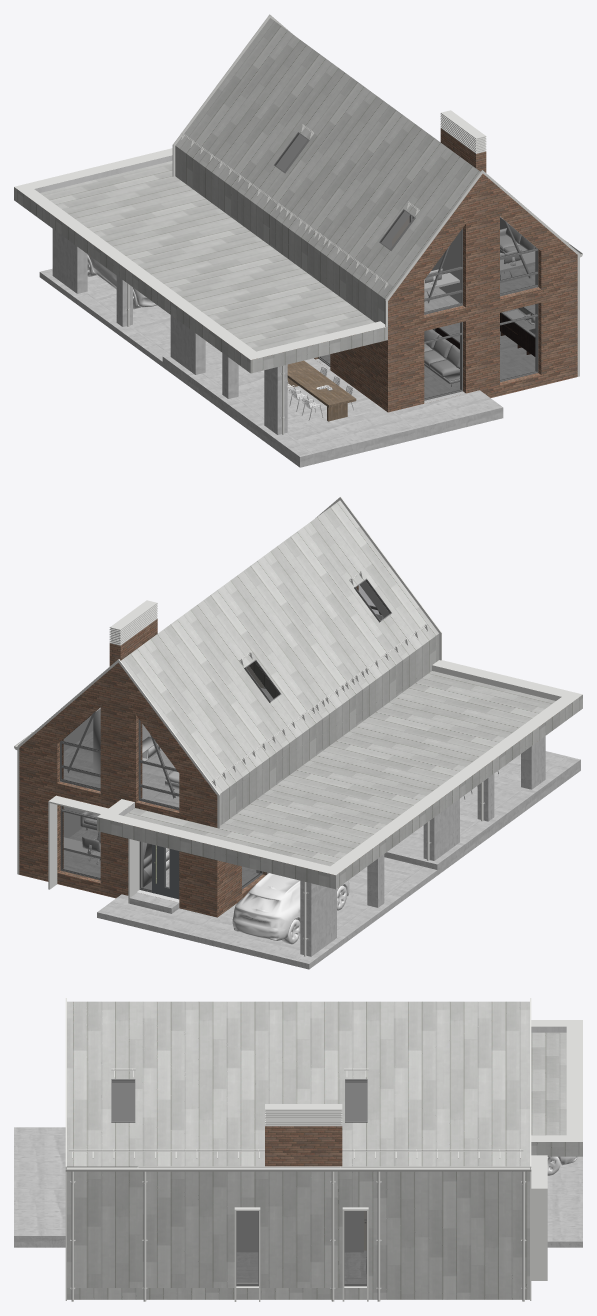
Rendered from BrickHouse к видео-compressed.glb.
3 views of the same model, one above another, from view 1: azimuth 30°, elevation 25°; view 2: azimuth 150°, elevation 25°; view 3: azimuth 270°, elevation 25° (orthographic). The views are drawn at different scales.
Visible parts, largest first — view 1: _3DGeom489, _3DGeom190154155, _3DGeom245, _3DGeom173111112, _3DGeom189152153, _3DGeom172108109, _3DGeom367, _3DGeom11953954021, _3DGeom11953954014, _3DGeom11953954006, _3DGeom11953954, _3DGeom24984985002 (+16 smaller); view 2: _3DGeom489, _3DGeom190154155, _3DGeom245, _3DGeom172108109, _3DGeom189152153, _3DGeom173111112, _3DGeom196170171, _3DGeom367, _3DGeom419366367001, _3DGeom11953954012, _3DGeom11953954009, _3DGeom24984985003 (+12 smaller); view 3: _3DGeom489, _3DGeom173111112, _3DGeom190154155, _3DGeom618591592, _3DGeom172108109, _3DGeom123, _3DGeom189152153, _3DGeom367, _3DGeom11953954011, _3DGeom11953954003, _3DGeom194164165, _3DGeom11953954017 (+13 smaller).
Part boxes in pixels (x1,y1,x2,y2): _3DGeom489: (175, 18, 480, 324); _3DGeom190154155: (14, 160, 387, 373); _3DGeom245: (314, 174, 577, 412); _3DGeom173111112: (162, 344, 503, 467); _3DGeom189152153: (14, 148, 385, 359); _3DGeom172108109: (39, 268, 210, 366); _3DGeom367: (316, 264, 535, 403); _3DGeom11953954021: (424, 335, 461, 398); _3DGeom11953954014: (500, 317, 536, 380); _3DGeom11953954006: (425, 336, 460, 397); _3DGeom11953954: (500, 317, 535, 379); _3DGeom24984985002: (500, 218, 536, 293); _3DGeom489: (121, 500, 439, 825); _3DGeom190154155: (97, 671, 582, 889); _3DGeom245: (19, 586, 358, 917); _3DGeom172108109: (97, 857, 437, 969); _3DGeom189152153: (97, 660, 582, 875); _3DGeom173111112: (384, 751, 580, 875); _3DGeom196170171: (232, 873, 349, 944); _3DGeom367: (63, 688, 273, 889); _3DGeom419366367001: (300, 880, 336, 956); _3DGeom11953954012: (62, 812, 100, 878); _3DGeom11953954009: (62, 812, 99, 877); _3DGeom24984985003: (61, 709, 100, 788); _3DGeom489: (67, 1001, 529, 1299); _3DGeom173111112: (14, 1127, 65, 1247); _3DGeom190154155: (531, 1032, 582, 1156); _3DGeom618591592: (265, 1126, 342, 1166); _3DGeom172108109: (547, 1156, 582, 1247); _3DGeom123: (112, 1080, 367, 1252); _3DGeom189152153: (531, 1020, 582, 1141); _3DGeom367: (67, 1250, 529, 1299); _3DGeom11953954011: (345, 1211, 366, 1284); _3DGeom11953954003: (237, 1211, 257, 1284); _3DGeom194164165: (531, 1190, 547, 1280); _3DGeom11953954017: (345, 1211, 365, 1283).
Bounding box in the file's own units: 12.96 × 8.57 × 17.59.
34 materials, 17 textured.
